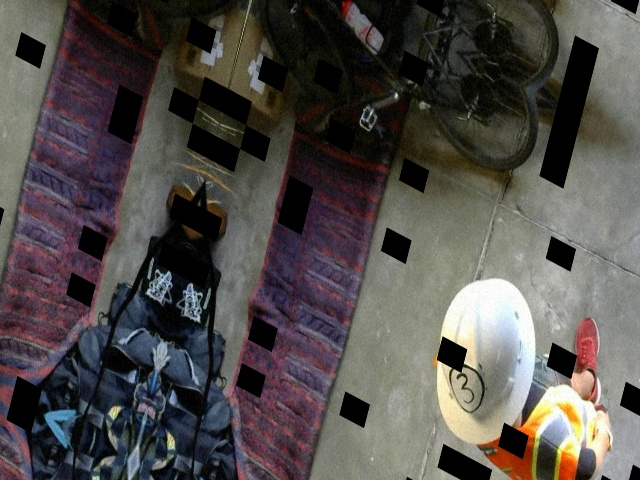three: (442, 357, 488, 417)
